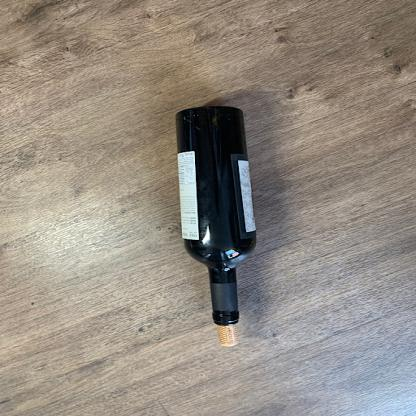trash: (164, 105, 258, 326)
